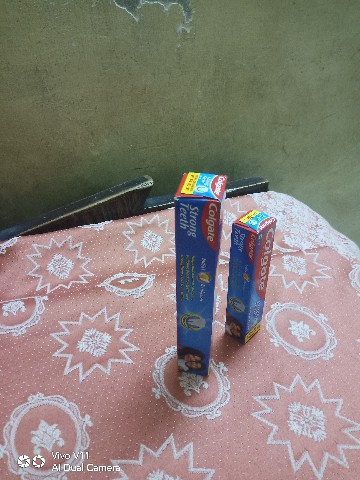colgatetoothpaste big: (163, 159, 229, 385)
colgatetoothpaste small: (225, 193, 275, 361)
